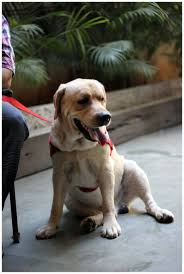dog_sitting: (35, 76, 175, 244)
